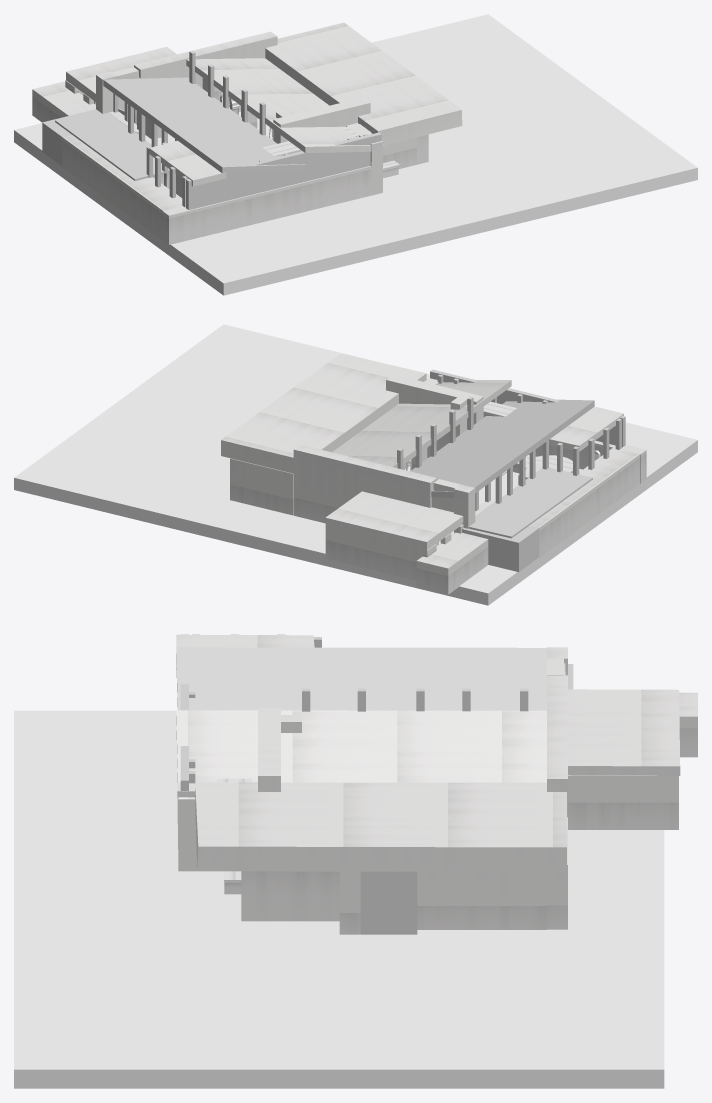
The model's file is 10Desper.fbx.
3 views of the same model, one above another, from view 1: azimuth 30°, elevation 25°; view 2: azimuth 150°, elevation 25°; view 3: azimuth 270°, elevation 25° (orthographic). The views are drawn at different scales.
Visible parts, largest first — view 1: pb_pb_Cube_1592364_5172; view 2: pb_pb_Cube_1592364_5172; view 3: pb_pb_Cube_1592364_5172.
Part boxes in pixels (x1,y1,x2,y2): pb_pb_Cube_1592364_5172: (14,14,697,295); pb_pb_Cube_1592364_5172: (14,324,697,605); pb_pb_Cube_1592364_5172: (14,634,697,1088).
Size of the model in its own units: 40.7 by 7.4 by 32.65.
5 materials, 5 textured.
